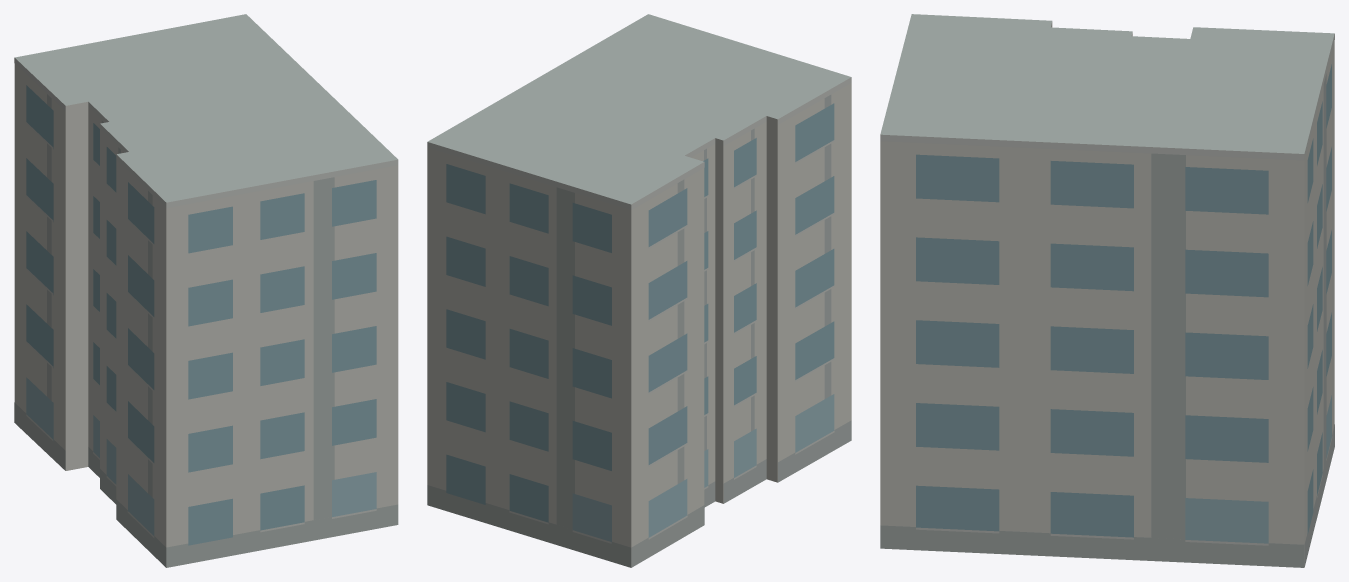
Rendered from survey-upis-32806472.glb.
3 renders of one model, left to right at view 1: azimuth 30°, elevation 25°; view 2: azimuth 150°, elevation 25°; view 3: azimuth 270°, elevation 25°, orthographic. The views are drawn at different scales.
Visible parts, largest first — view 1: survey-upis-32806472.tmp; view 2: survey-upis-32806472.tmp; view 3: survey-upis-32806472.tmp.
Boxes of the visible parts, x1,y1,x2,y2 form: survey-upis-32806472.tmp: [14, 14, 398, 567]; survey-upis-32806472.tmp: [427, 14, 851, 567]; survey-upis-32806472.tmp: [880, 14, 1334, 567].
Size of the model in its own units: 11.33 by 15.6 by 15.54.
